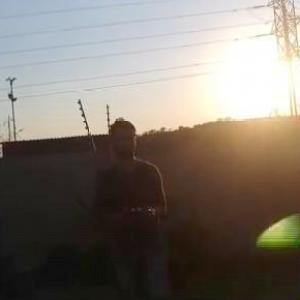follow: (93, 110, 175, 299)
